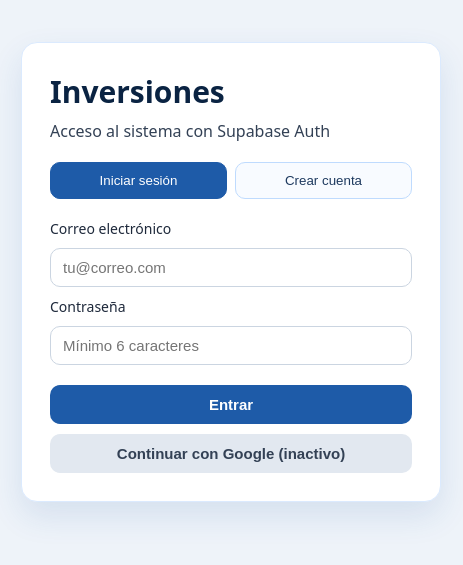
Test: LoginPage › valida correo obligatorio
The image size is (463, 565).
Step 1. Type "123456" into the password field labelled "Contraseña" → (231,346), box [50,326,412,365]
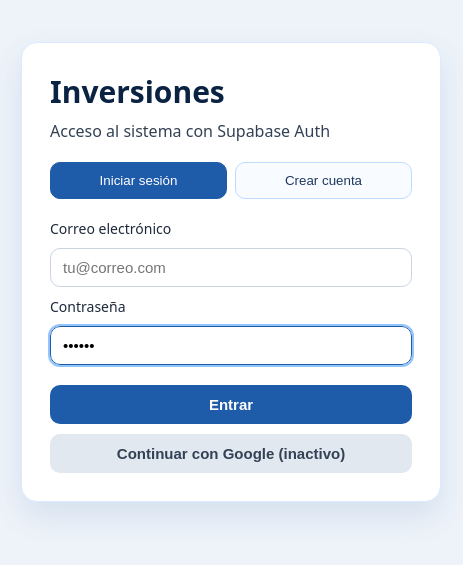
Step 2. Click the button "Entrar" → (231,404), box [50,385,412,424]
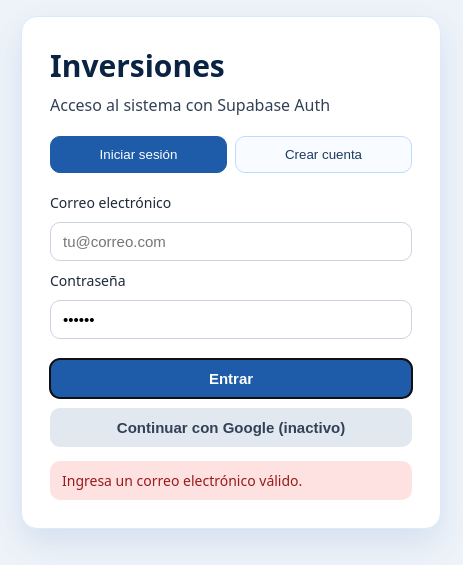
Expected: the text "Ingresa un correo electrónico válido." is shown, [50,460,412,500]
